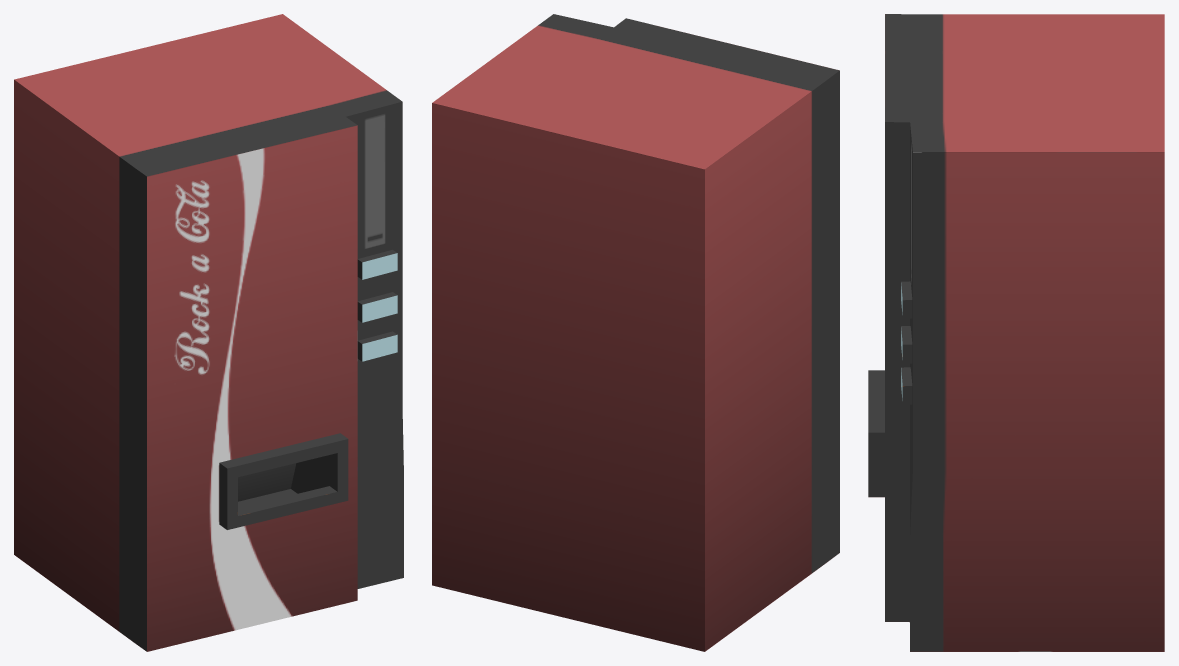
Rendered from Drink_machine.FBX.
3 views of the same model, side by side, from view 1: azimuth 30°, elevation 25°; view 2: azimuth 150°, elevation 25°; view 3: azimuth 270°, elevation 25° (orthographic). The views are drawn at different scales.
Visible parts, largest first — view 1: Maquina_refrescos; view 2: Maquina_refrescos; view 3: Maquina_refrescos.
Part boxes in pixels (x1,y1,x2,y2): Maquina_refrescos: [14, 14, 403, 651]; Maquina_refrescos: [432, 14, 839, 651]; Maquina_refrescos: [868, 14, 1164, 651].
Size of the model in its own units: 31.56 by 53.37 by 28.67.
